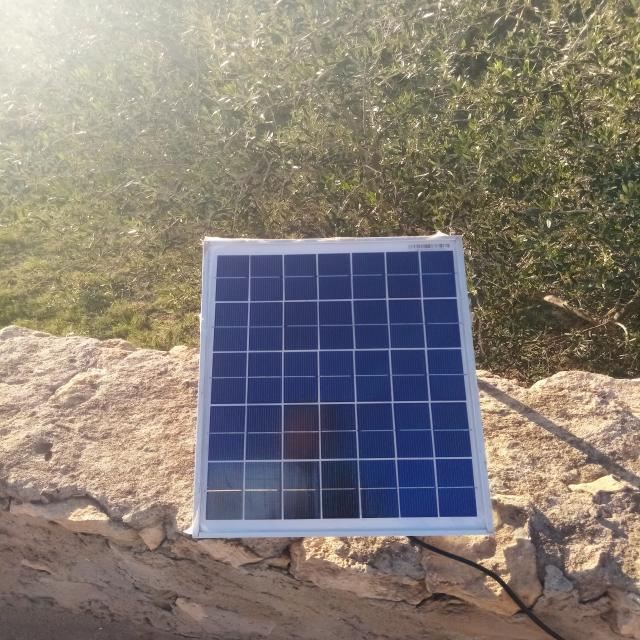Normal Solar Panel: (195, 237, 490, 540)
